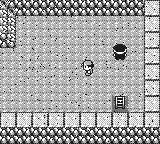main: (81, 61, 94, 75)
no-caminable: (1, 0, 160, 127), (1, 0, 144, 48), (1, 127, 160, 143)
npc: (112, 44, 128, 60)
puerta: (114, 96, 126, 108)
